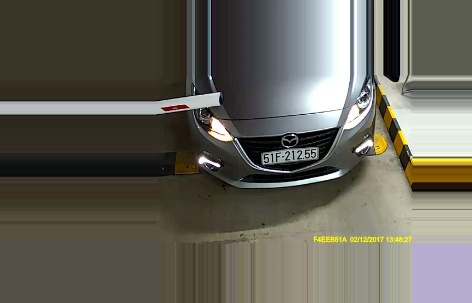plate: (260, 145, 320, 168)
